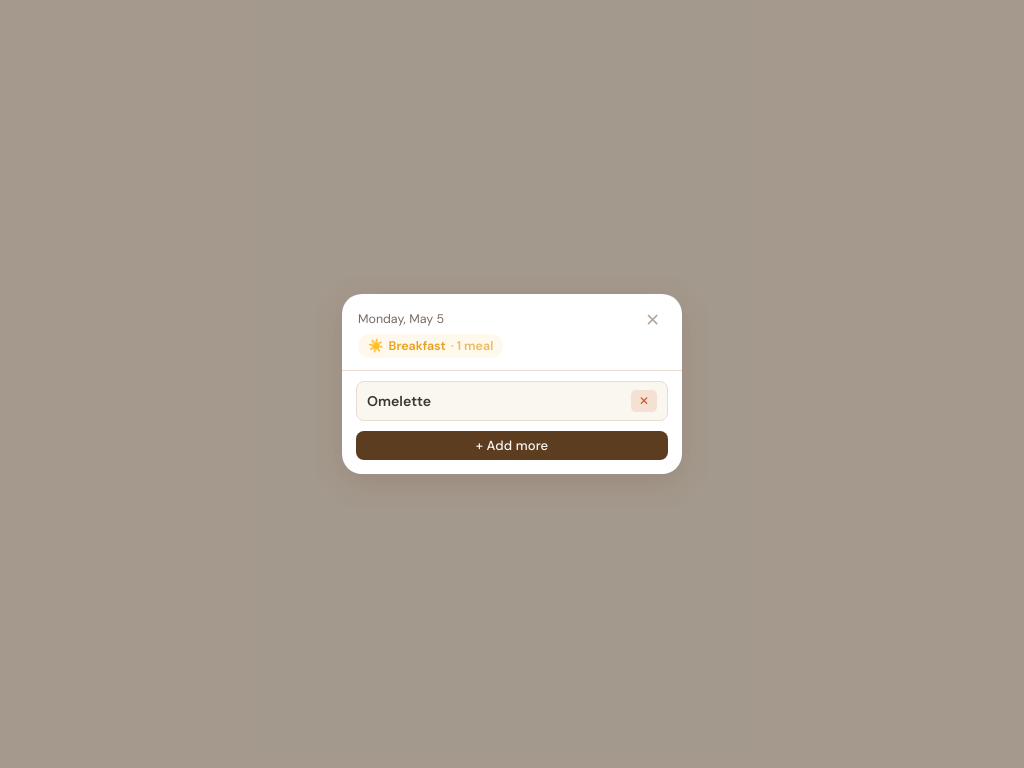
Test: SlotModal search view › shows search input when Add more is clicked
Click the button "+ Add more" at (512, 446), box top-left (356, 431), bottom-right (668, 460)
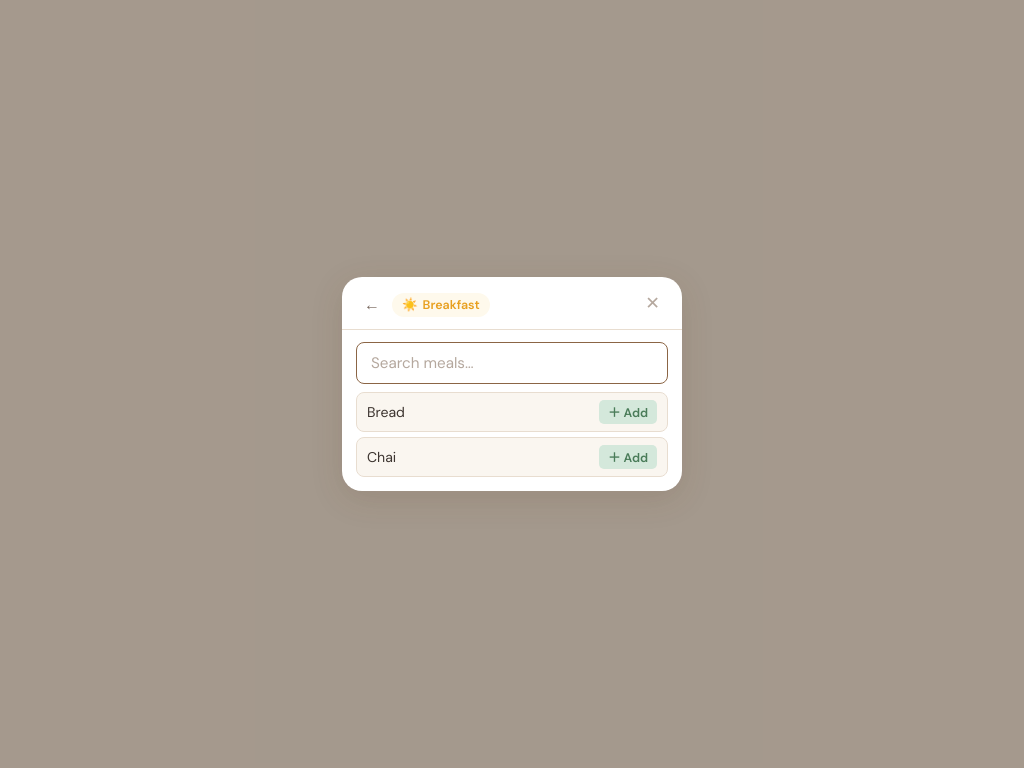
Now the field with placeholder "Search meals…" is shown, box top-left (356, 342), bottom-right (668, 384)
